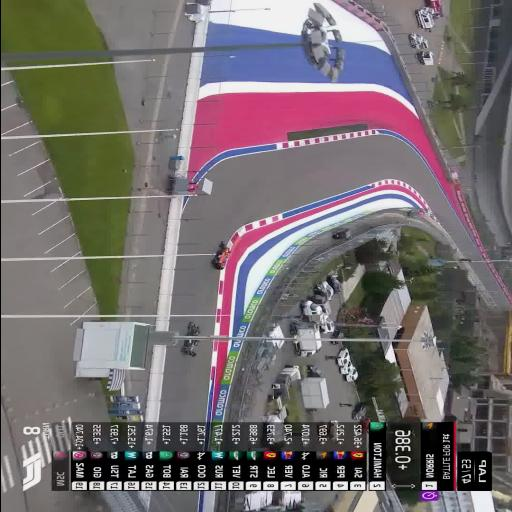f1_car: (212, 242, 229, 270), (183, 340, 199, 357), (186, 322, 199, 336)
